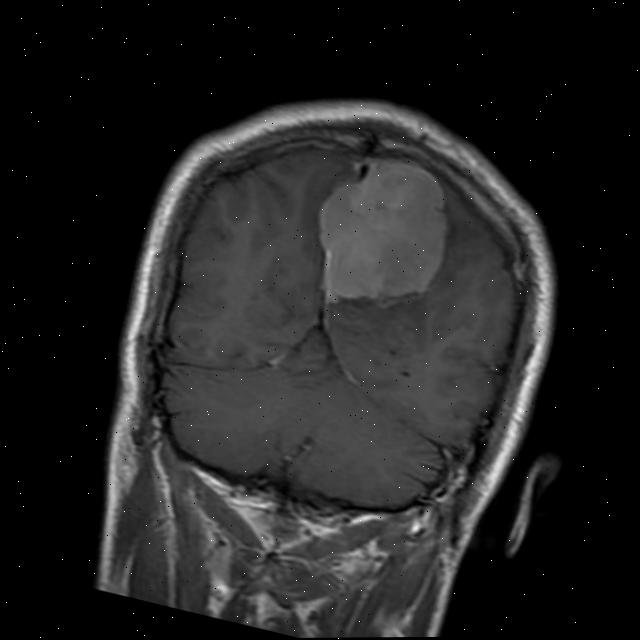Meningioma: (291, 139, 470, 332)
